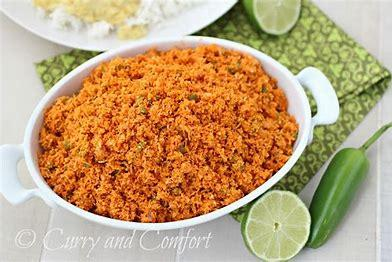Pol Sambol: (26, 43, 304, 220)
